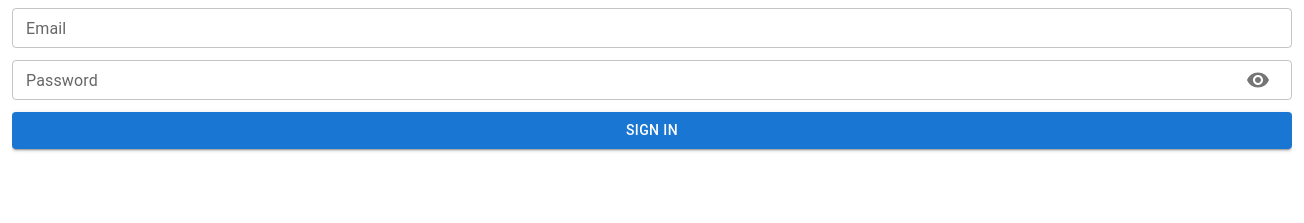
Test: Auth Form component › should display error if password is invalid
The width and height of the screenshot is (1304, 223).
Type "1234" into the password field labelled "Password" at {"x": 621, "y": 80}, box [12, 60, 1230, 100]
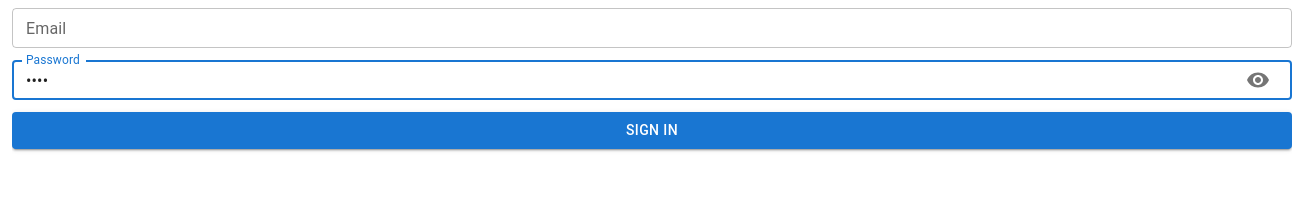
Click the button "Sign In" at {"x": 652, "y": 130}, box [12, 112, 1292, 148]
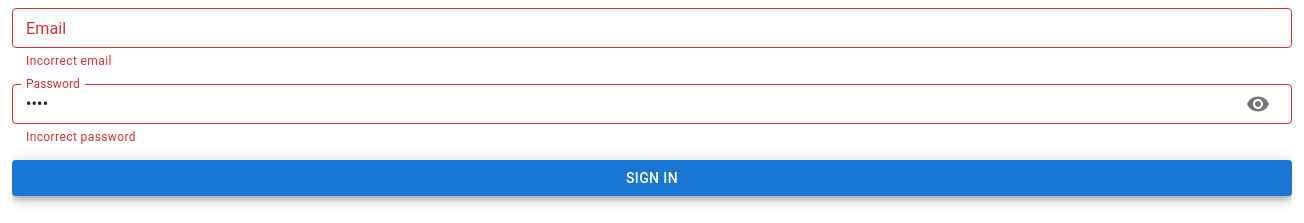
expect the text "Incorrect password" is shown: met, box [26, 130, 136, 144]
